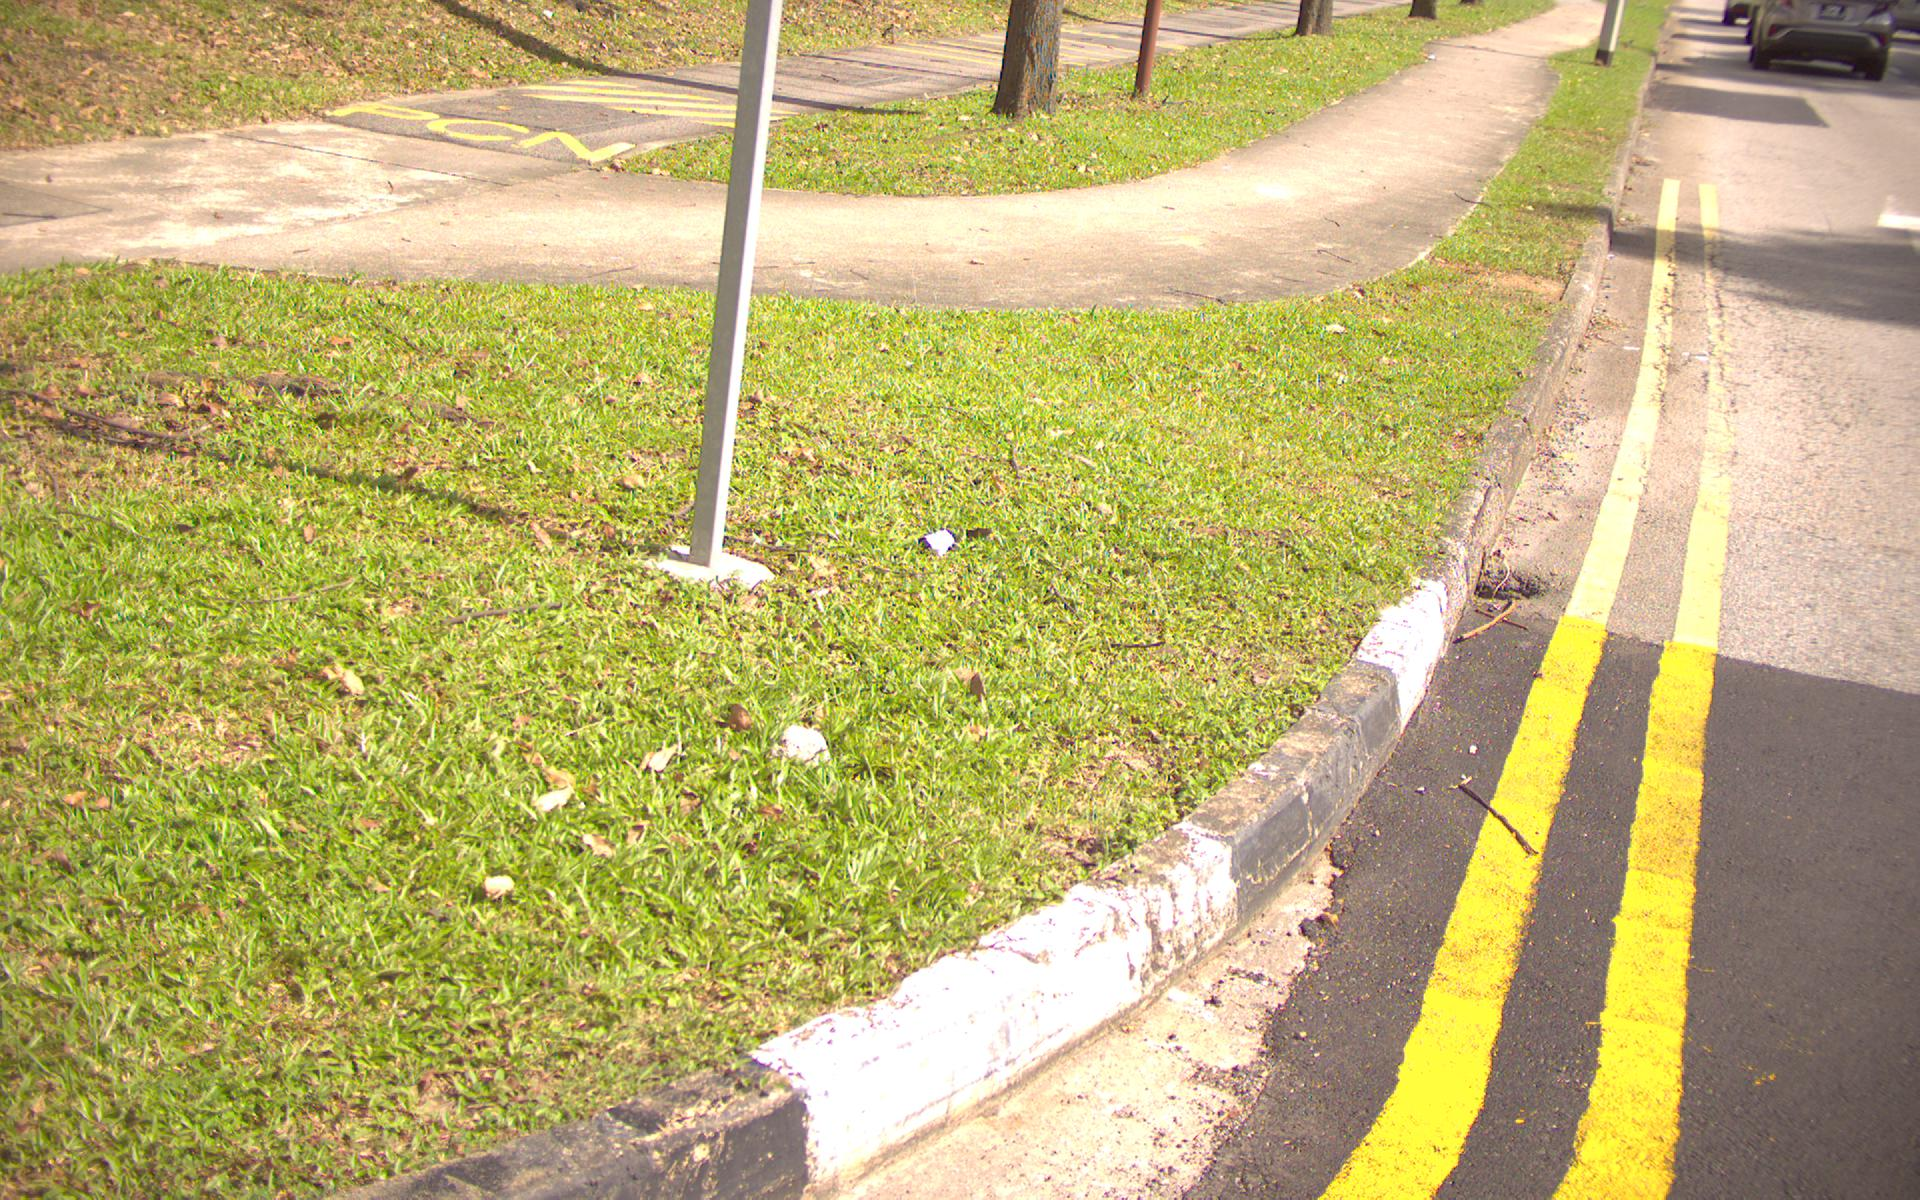pathway_low: (608, 177, 1384, 276), (213, 142, 583, 263)
road_curb_low: (1569, 366, 1710, 1200)
road_turf_low: (12, 306, 810, 990)
